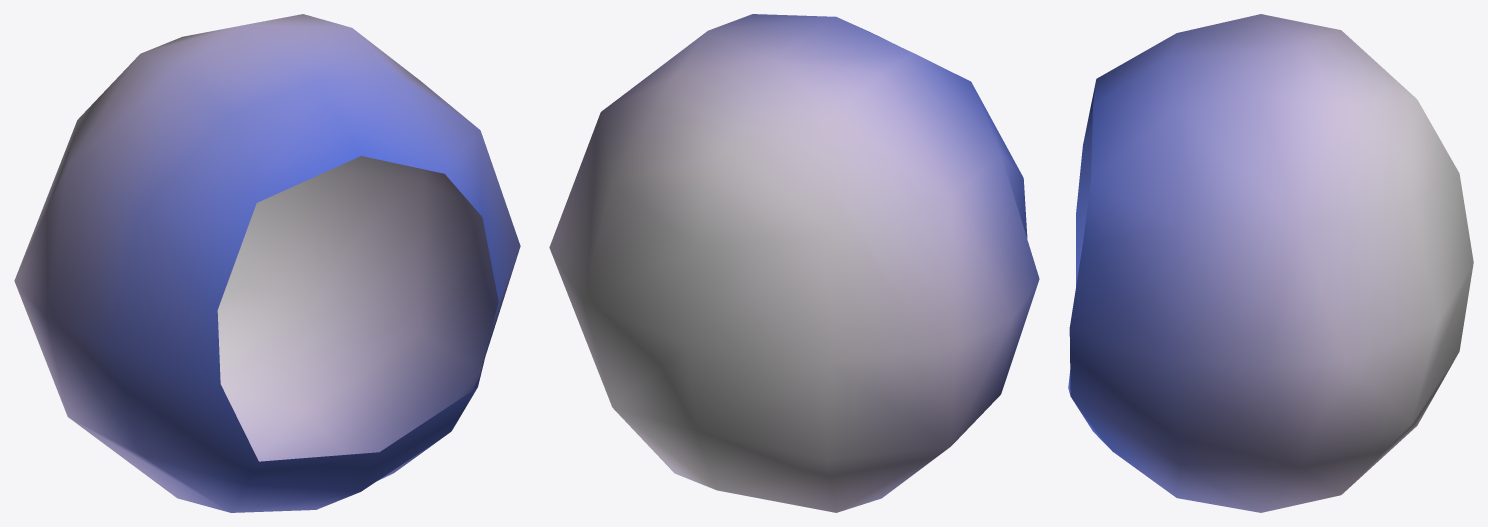
The model's file is HolidaySnowManMiddle.fbx.
3 views of the same model, side by side, from view 1: azimuth 30°, elevation 25°; view 2: azimuth 150°, elevation 25°; view 3: azimuth 270°, elevation 25° (orthographic). The views are drawn at different scales.
Visible parts, largest first — view 1: HolidaySnowManMiddle; view 2: HolidaySnowManMiddle; view 3: HolidaySnowManMiddle.
Part boxes in pixels (box(x1,y1,x2,y2)): HolidaySnowManMiddle: box(14, 14, 520, 512); HolidaySnowManMiddle: box(549, 14, 1039, 512); HolidaySnowManMiddle: box(1068, 14, 1473, 512).
Bounding box in the file's own units: 35.95 × 34.74 × 29.63.
